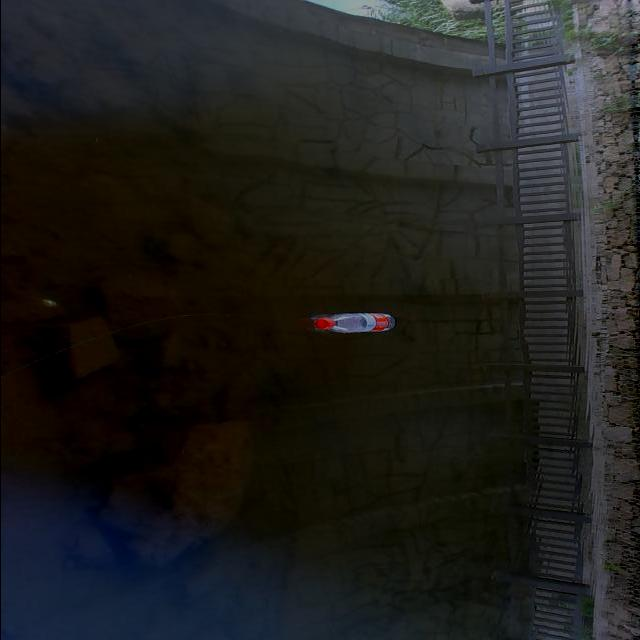bottle: (308, 298, 412, 346)
